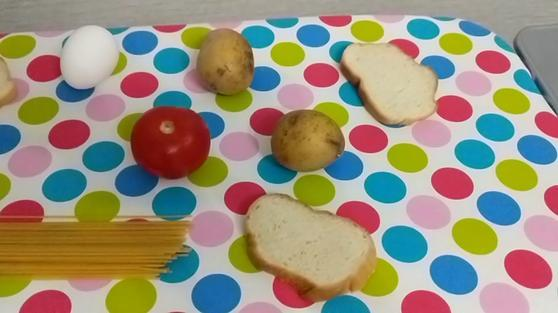egg: (49, 21, 126, 90)
potato: (269, 108, 353, 177), (190, 28, 261, 99)
spaghetti: (1, 211, 209, 278)
tomato: (126, 103, 218, 180)
white_bread: (232, 185, 394, 301), (338, 34, 452, 127)
